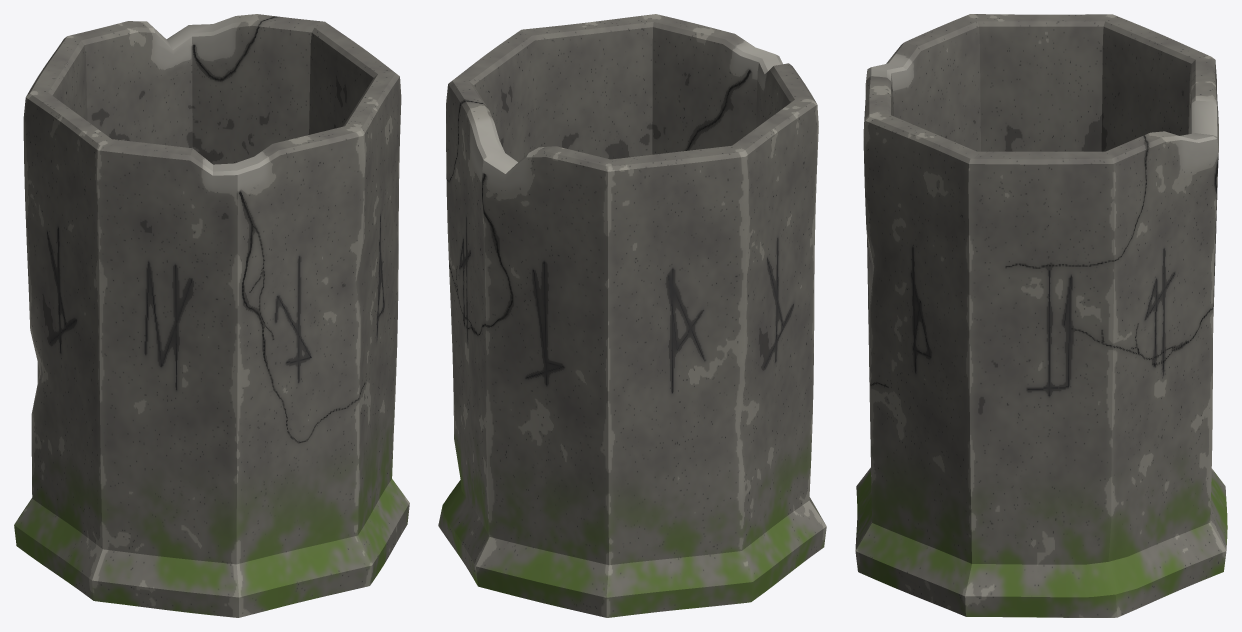
Rendered from Cup_Stone.fbx.
The picture shows the model from 3 angles, left to right: view 1: azimuth 30°, elevation 25°; view 2: azimuth 150°, elevation 25°; view 3: azimuth 270°, elevation 25°; orthographic projection.
Visible parts, largest first — view 1: Cup_Stone; view 2: Cup_Stone; view 3: Cup_Stone.
Boxes of the visible parts, x1,y1,x2,y2 form: Cup_Stone: (14,14,409,617); Cup_Stone: (438,14,826,617); Cup_Stone: (855,14,1227,617).
Size of the model in its own units: 0.6636 by 0.9 by 0.6633.
Materials: 1 (1 with a texture image).
